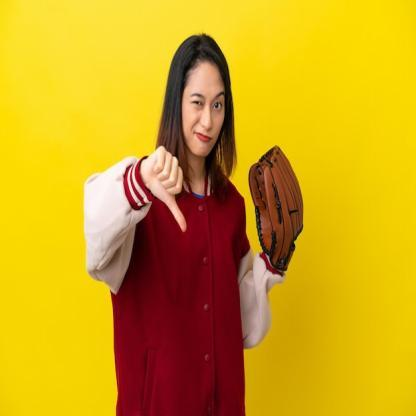thumb_down: (142, 144, 190, 234)
